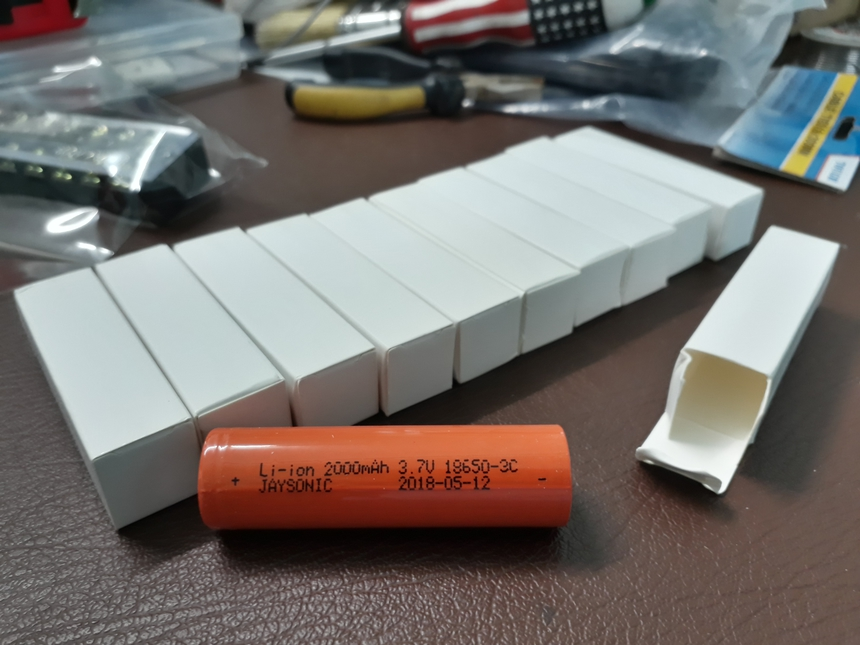Battery: (190, 420, 579, 534)
